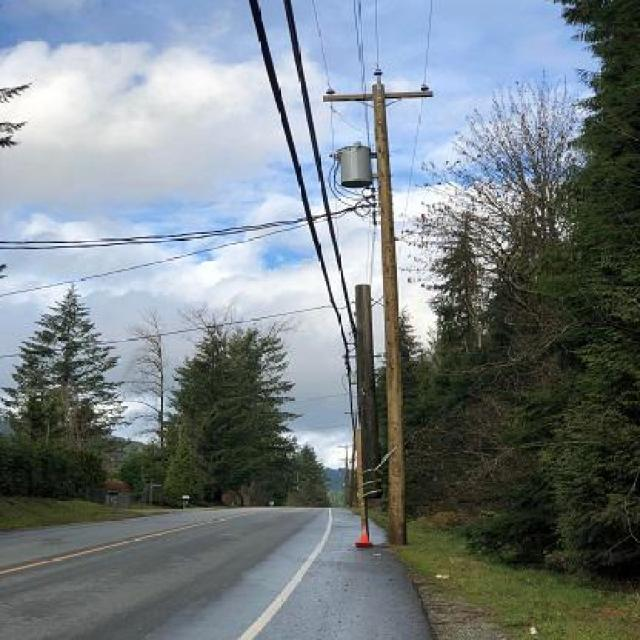pole: (318, 69, 451, 543)
